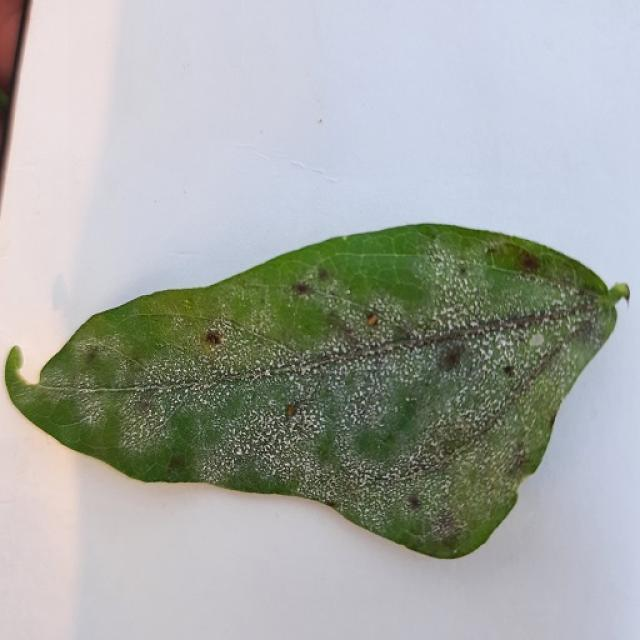Blackgram: (6, 224, 628, 556)
Powdery_Mildew: (513, 309, 607, 449), (423, 340, 535, 450), (313, 379, 423, 489), (217, 380, 333, 475), (175, 323, 294, 397), (124, 350, 215, 435), (213, 286, 324, 355), (409, 256, 499, 326), (467, 324, 535, 378), (75, 394, 116, 431), (343, 393, 376, 424), (205, 319, 241, 347), (562, 313, 584, 336), (242, 437, 261, 455), (172, 365, 188, 378), (530, 334, 544, 346), (480, 363, 492, 374), (462, 408, 475, 418), (263, 426, 274, 437), (219, 303, 229, 315), (139, 424, 147, 436), (405, 395, 417, 403), (557, 292, 567, 301), (176, 316, 184, 324), (359, 400, 366, 407), (393, 406, 399, 413), (345, 289, 351, 295)
